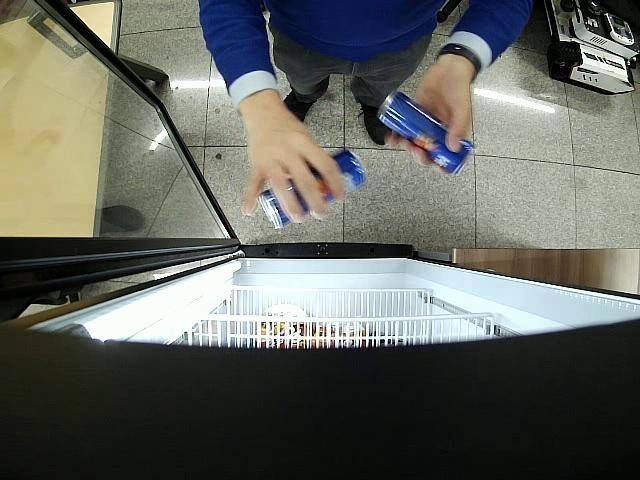16_hot6: (256, 149, 366, 230), (376, 88, 474, 173)
